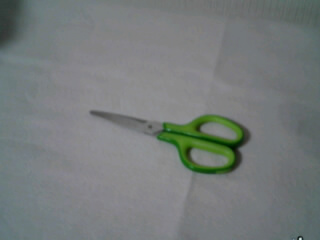003_classes: (80, 99, 255, 181)
